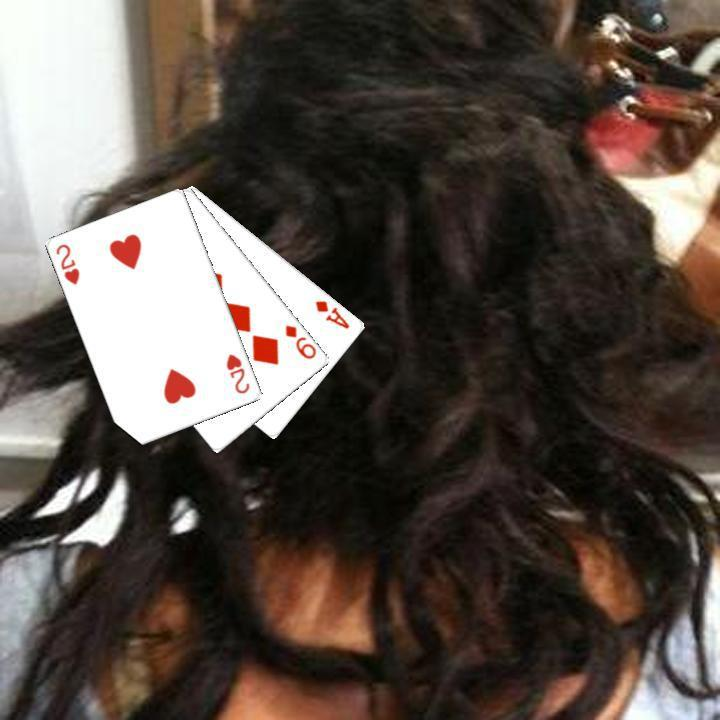2: (222, 349, 252, 396), (52, 240, 82, 287)
9: (281, 321, 319, 361)
A: (311, 296, 352, 331)
